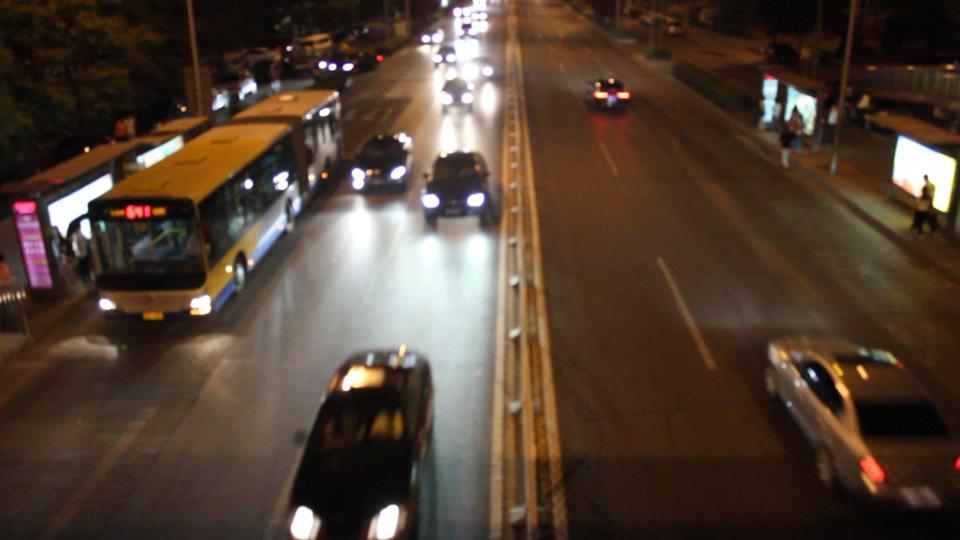bus: (58, 90, 345, 326)
car: (762, 331, 960, 540), (285, 343, 438, 540), (421, 150, 496, 230), (349, 133, 416, 196), (584, 77, 631, 113), (440, 78, 475, 112)
microbus: (292, 31, 332, 63)
